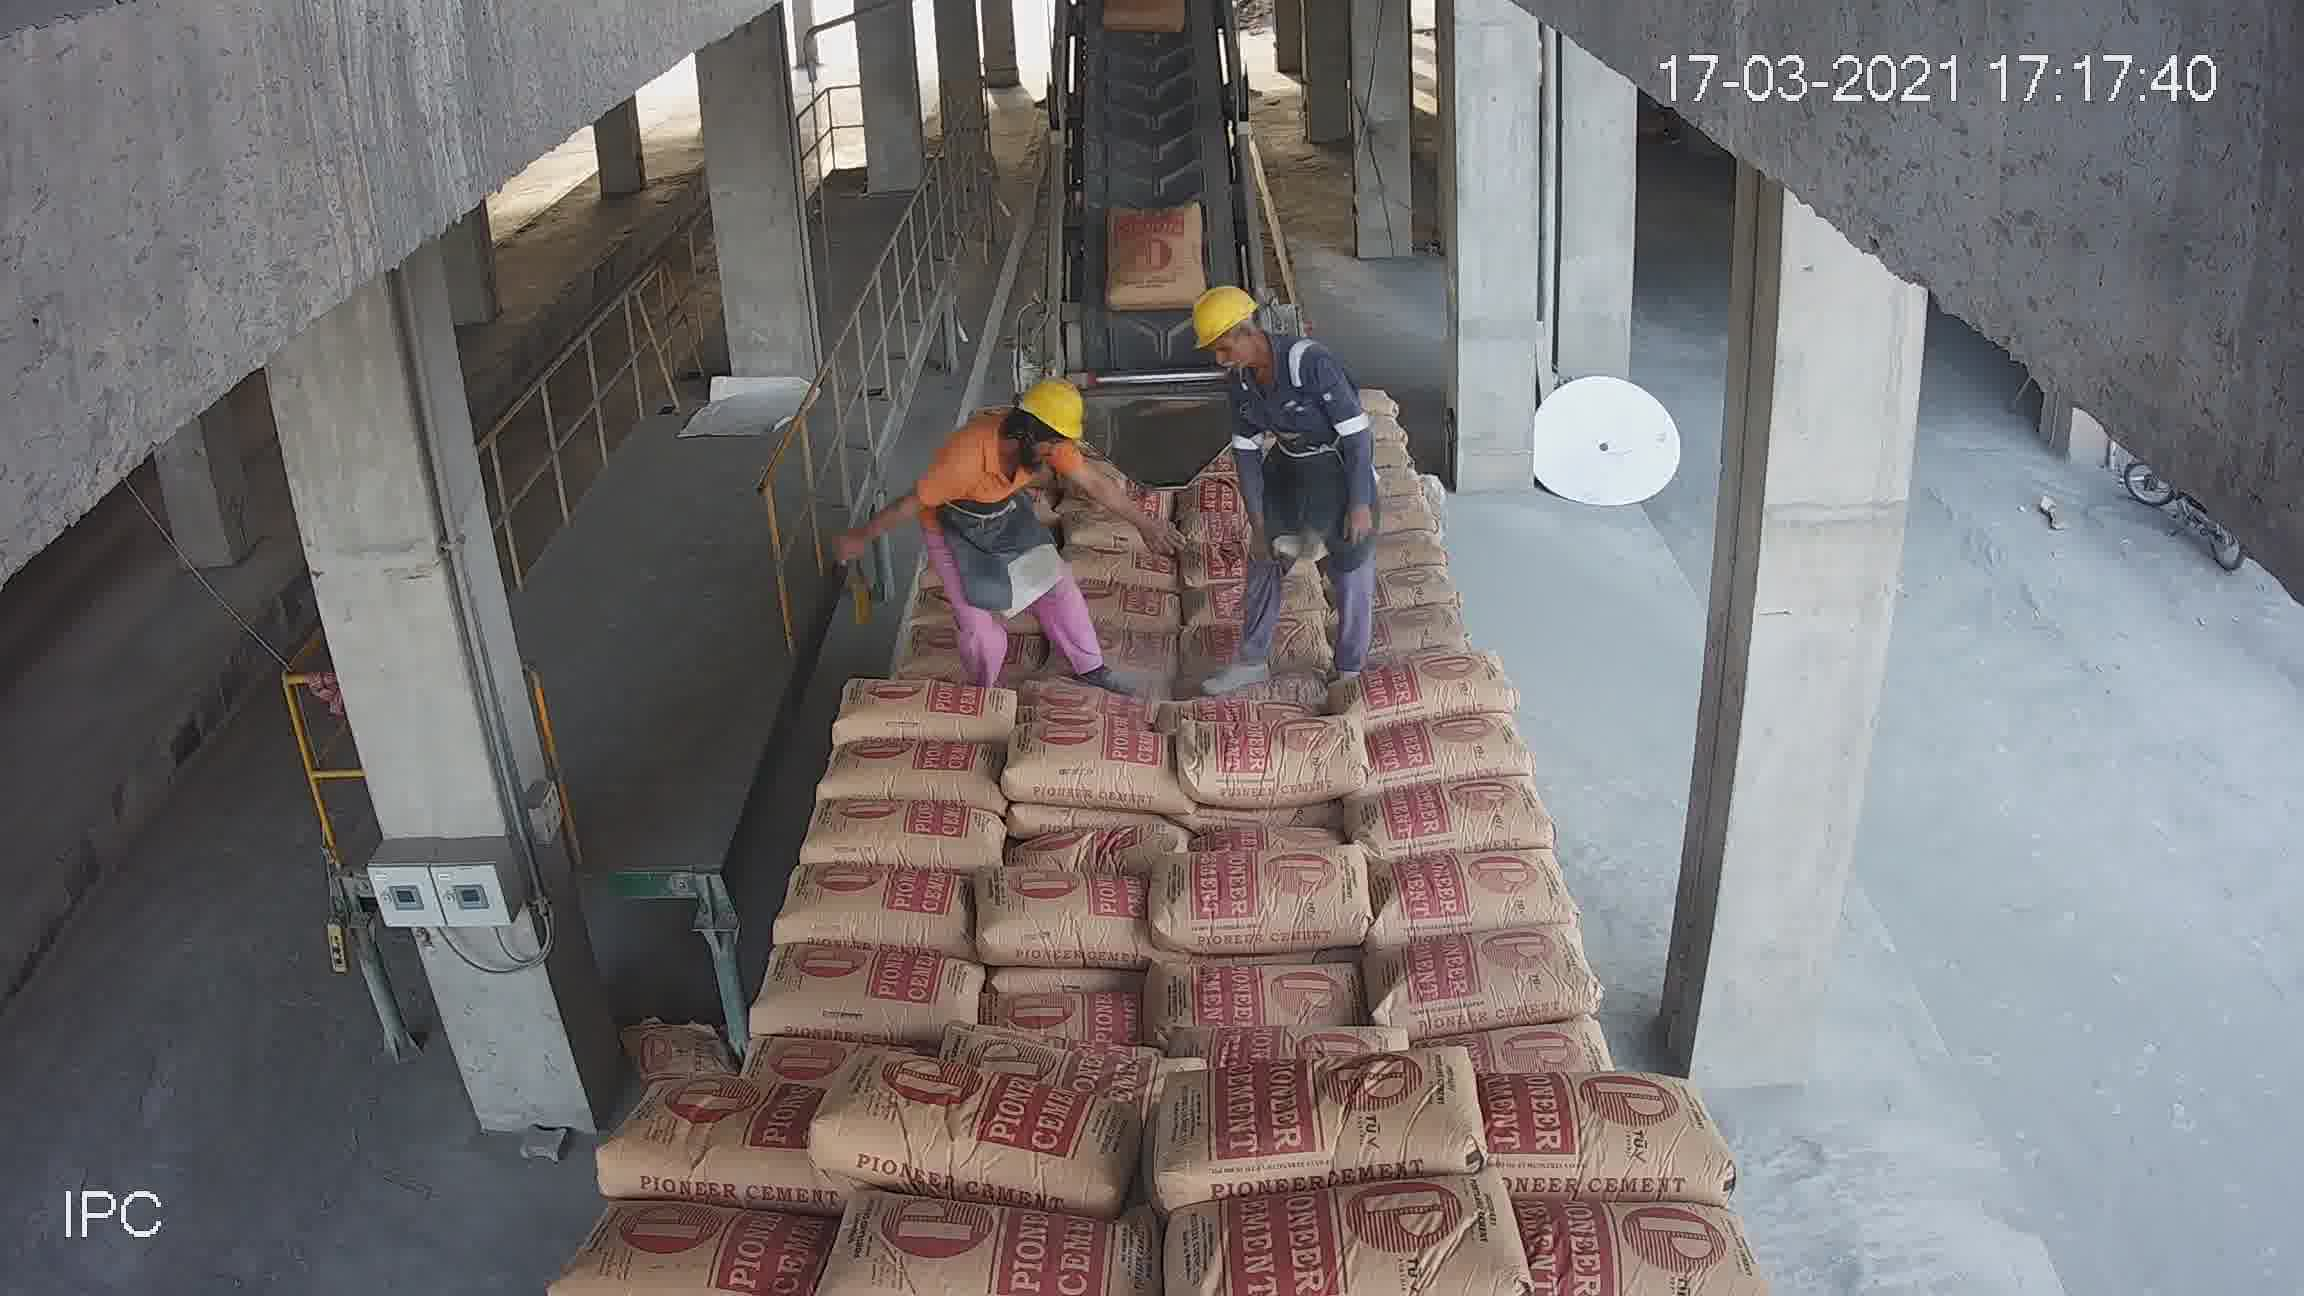bag: (1105, 199, 1209, 297)
bag_h: (794, 1060, 1122, 1211), (1168, 1059, 1478, 1214), (1173, 1174, 1513, 1296), (1437, 1071, 1711, 1207), (829, 1193, 1176, 1294), (1362, 918, 1600, 1036), (744, 934, 994, 1044), (581, 1192, 850, 1291), (1492, 1176, 1741, 1282), (603, 1082, 809, 1207), (978, 856, 1154, 980), (1165, 848, 1375, 945), (764, 862, 981, 956), (1359, 850, 1570, 938), (1154, 965, 1366, 1051), (1003, 722, 1182, 813), (1348, 775, 1548, 858), (1180, 715, 1358, 805), (801, 802, 1002, 877), (1347, 654, 1516, 737), (820, 733, 1010, 805), (1404, 1021, 1609, 1086), (832, 676, 1024, 745), (1369, 703, 1529, 783), (1184, 609, 1343, 680), (1000, 986, 1157, 1055), (1044, 663, 1187, 718), (1055, 582, 1180, 636), (1372, 600, 1465, 654), (885, 628, 976, 680), (1361, 562, 1461, 603), (1182, 543, 1255, 592)
belt: (1036, 6, 1274, 404)
